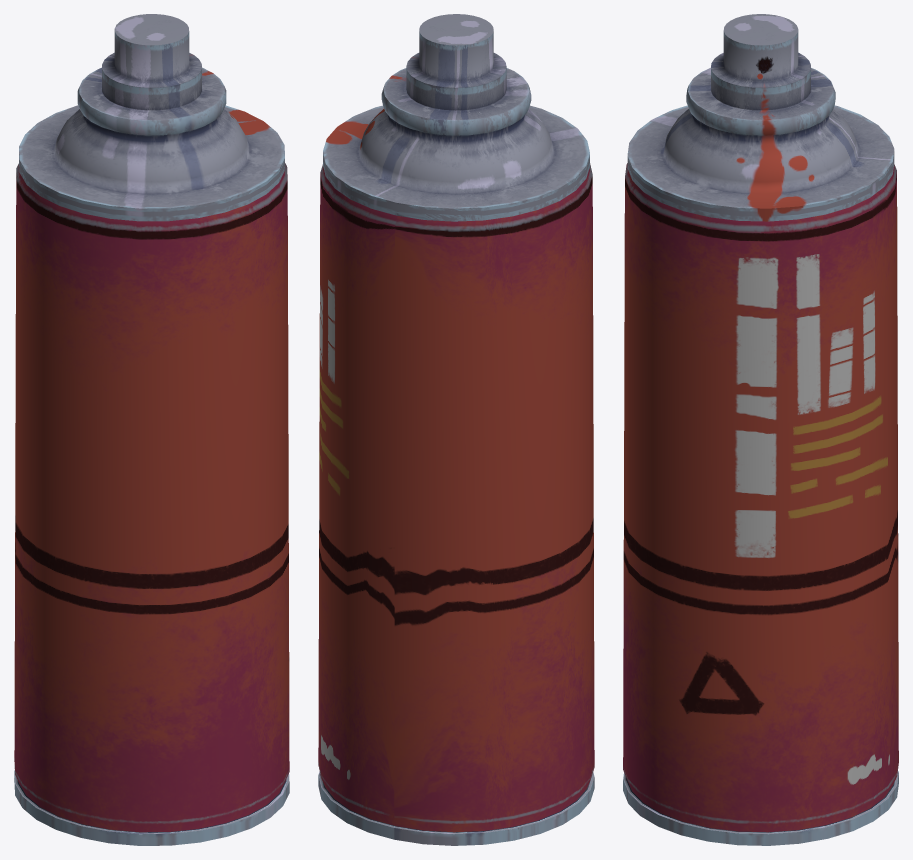
File: Spray_Can_Textured 1.fbx
3 renders of one model, left to right at view 1: azimuth 30°, elevation 25°; view 2: azimuth 150°, elevation 25°; view 3: azimuth 270°, elevation 25°, orthographic.
Parts seen in each view (by area): view 1: spraycan; view 2: spraycan; view 3: spraycan.
Part boxes in pixels (bbox=[...]): spraycan: bbox=[14, 14, 289, 845]; spraycan: bbox=[318, 14, 594, 845]; spraycan: bbox=[623, 14, 898, 845].
Bounding box in the file's own units: 26.11 × 79.38 × 26.11.
Materials: 1 (1 with a texture image).
